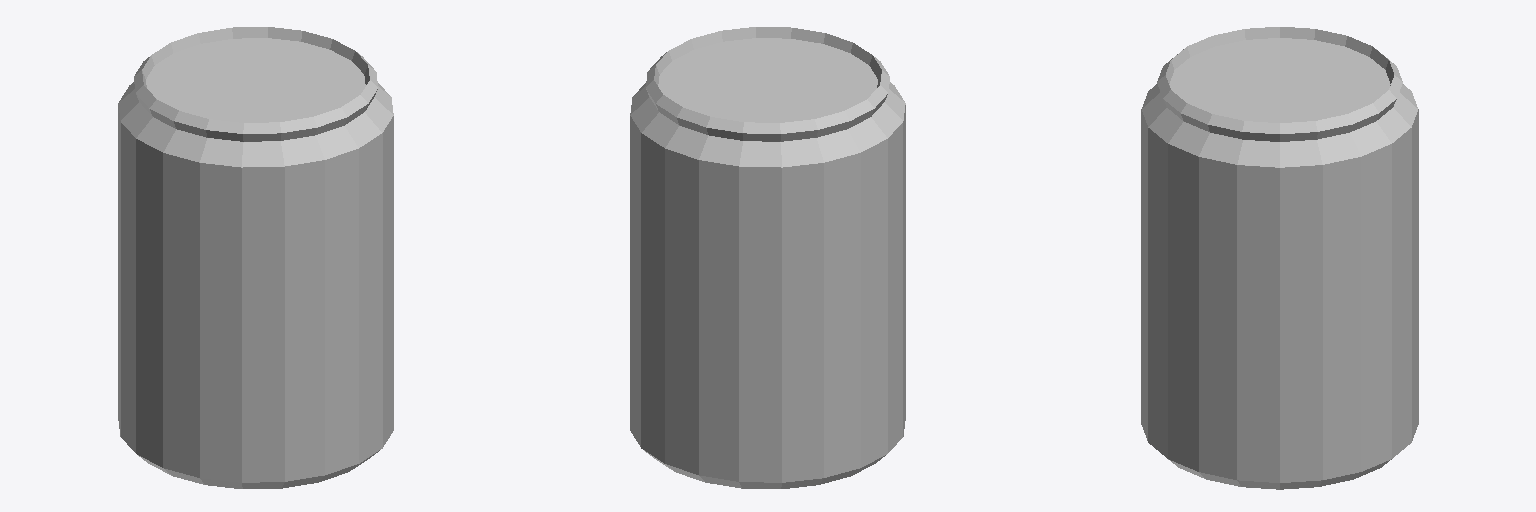
Rendered from SodaCan.obj.
The picture shows the model from 3 angles: view 1: azimuth 30°, elevation 25°; view 2: azimuth 150°, elevation 25°; view 3: azimuth 270°, elevation 25°; orthographic projection.
Parts seen in each view (by area): view 1: Soda; view 2: Soda; view 3: Soda.
Boxes of the visible parts, box(x1,y1,x2,y2) form: Soda: box(118, 27, 393, 488); Soda: box(630, 27, 905, 488); Soda: box(1141, 27, 1418, 489).
Size of the model in its own units: 8.97 by 12.94 by 8.97.